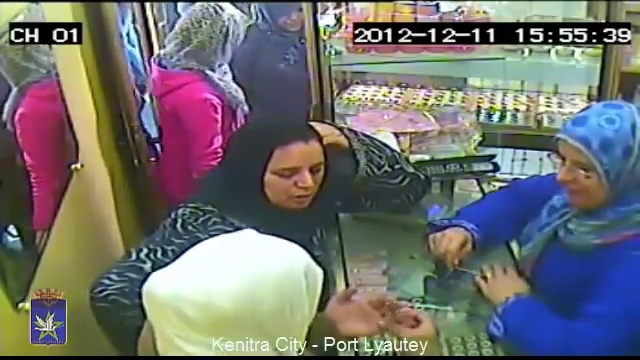face: (265, 149, 325, 205), (556, 143, 596, 215), (280, 7, 307, 27)
